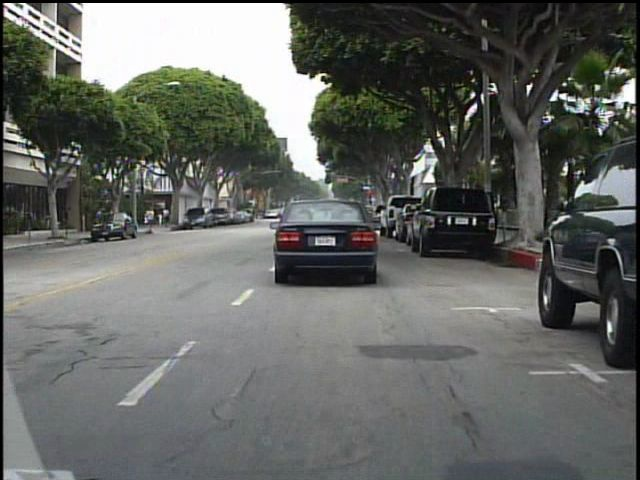person: (146, 204, 161, 233), (162, 204, 175, 231)
